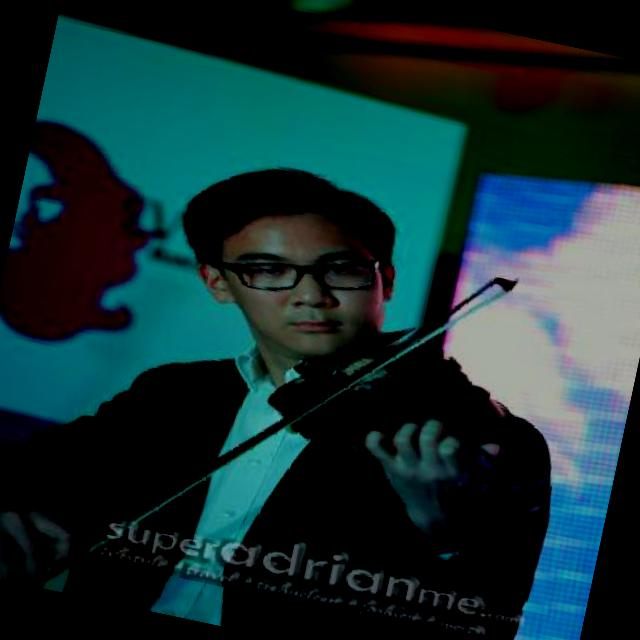Person: (0, 110, 609, 640)
